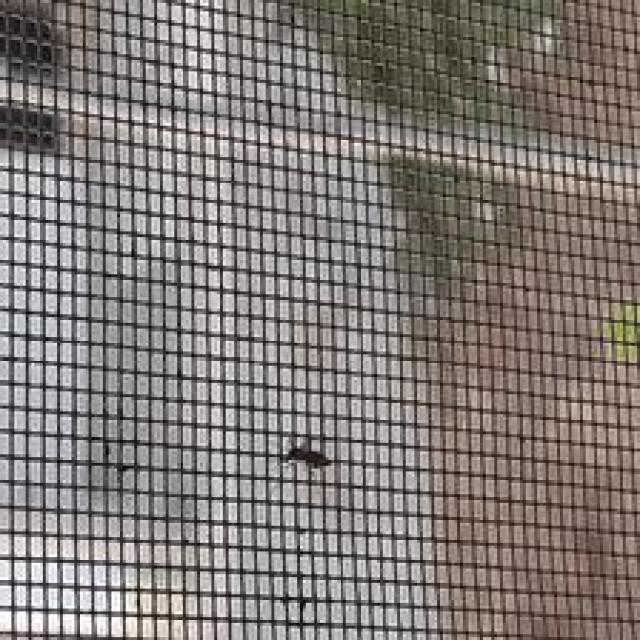Aedes albopictus: (284, 443, 333, 471)
